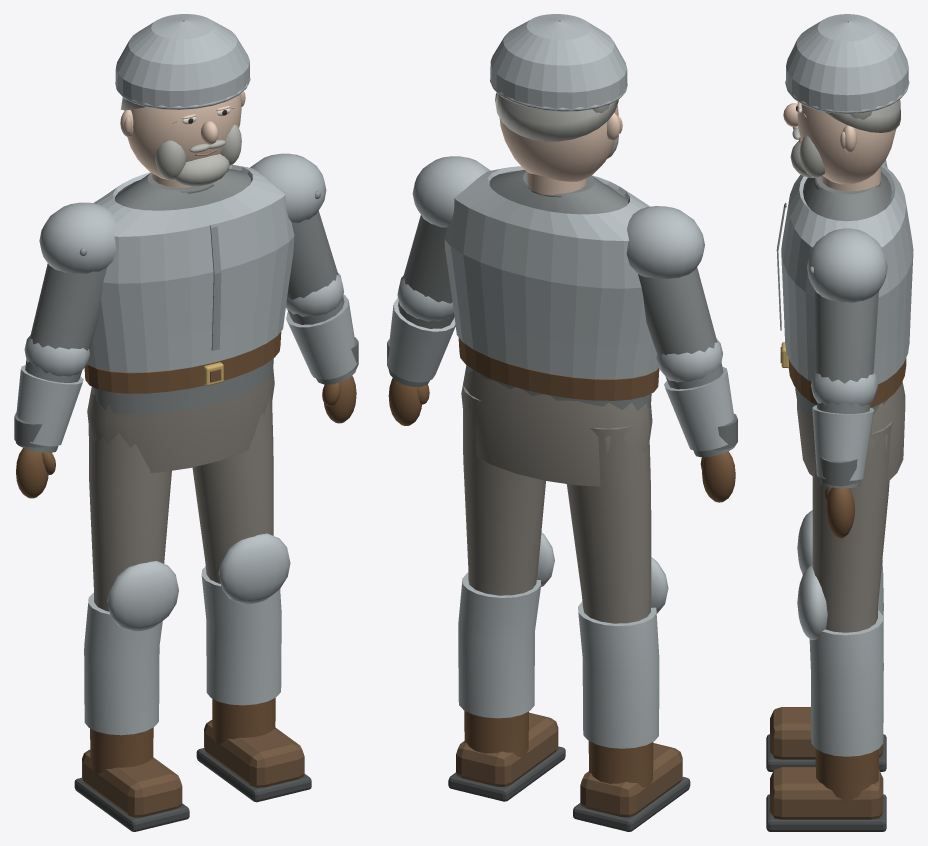
Rendered from soldier_medieval_3.glb.
3 renders of one model, left to right at view 1: azimuth 30°, elevation 25°; view 2: azimuth 150°, elevation 25°; view 3: azimuth 270°, elevation 25°, orthographic.
Visible parts, largest first — view 1: Medieval_Soldier_3_Medieval_Breastplate, Medieval_Soldier_3_Open_Face_Helmet, Medieval_Soldier_3_Trouser_Leg, Medieval_Soldier_3_Connected_Hip_Garment, Medieval_Soldier_3_Metal_Shin_Guard, Medieval_Soldier_3_Metal_Shin_Guard.001, Medieval_Soldier_3_Trouser_Leg.001, Medieval_Soldier_3_Torso_And_Main_Clothes, Medieval_Soldier_3_Long_Sleeve, Medieval_Soldier_3_Rounded_Shoulder_Armor, Medieval_Soldier_3_Head, Medieval_Soldier_3_Shoe_Upper (+19 smaller); view 2: Medieval_Soldier_3_Medieval_Breastplate, Medieval_Soldier_3_Trouser_Leg, Medieval_Soldier_3_Connected_Hip_Garment, Medieval_Soldier_3_Open_Face_Helmet, Medieval_Soldier_3_Trouser_Leg.001, Medieval_Soldier_3_Metal_Shin_Guard, Medieval_Soldier_3_Metal_Shin_Guard.001, Medieval_Soldier_3_Long_Sleeve, Medieval_Soldier_3_Rounded_Shoulder_Armor, Medieval_Soldier_3_Waist_Belt, Medieval_Soldier_3_Torso_And_Main_Clothes, Medieval_Soldier_3_Head (+18 smaller); view 3: Medieval_Soldier_3_Medieval_Breastplate, Medieval_Soldier_3_Trouser_Leg.001, Medieval_Soldier_3_Open_Face_Helmet, Medieval_Soldier_3_Metal_Shin_Guard.001, Medieval_Soldier_3_Long_Sleeve.001, Medieval_Soldier_3_Rounded_Shoulder_Armor.001, Medieval_Soldier_3_Shoe_Upper.001, Medieval_Soldier_3_Head, Medieval_Soldier_3_Metal_Forearm_Guard.001, Medieval_Soldier_3_Torso_And_Main_Clothes, Medieval_Soldier_3_Connected_Hip_Garment, Medieval_Soldier_3_High_Boot_Shaft.001 (+16 smaller).
Boxes of the visible parts, x1=… form: Medieval_Soldier_3_Medieval_Breastplate: x1=87, y1=164, x2=294, y2=372; Medieval_Soldier_3_Open_Face_Helmet: x1=115, y1=14, x2=249, y2=108; Medieval_Soldier_3_Trouser_Leg: x1=88, y1=423, x2=171, y2=611; Medieval_Soldier_3_Connected_Hip_Garment: x1=87, y1=366, x2=274, y2=472; Medieval_Soldier_3_Metal_Shin_Guard: x1=84, y1=592, x2=162, y2=735; Medieval_Soldier_3_Metal_Shin_Guard.001: x1=201, y1=566, x2=281, y2=705; Medieval_Soldier_3_Trouser_Leg.001: x1=192, y1=396, x2=273, y2=583; Medieval_Soldier_3_Torso_And_Main_Clothes: x1=92, y1=169, x2=273, y2=414; Medieval_Soldier_3_Long_Sleeve: x1=16, y1=263, x2=106, y2=452; Medieval_Soldier_3_Rounded_Shoulder_Armor: x1=39, y1=202, x2=116, y2=273; Medieval_Soldier_3_Head: x1=124, y1=94, x2=241, y2=180; Medieval_Soldier_3_Shoe_Upper: x1=82, y1=749, x2=182, y2=817; Medieval_Soldier_3_Medieval_Breastplate: x1=444, y1=166, x2=658, y2=379; Medieval_Soldier_3_Trouser_Leg: x1=566, y1=426, x2=651, y2=623; Medieval_Soldier_3_Connected_Hip_Garment: x1=461, y1=365, x2=652, y2=486; Medieval_Soldier_3_Open_Face_Helmet: x1=490, y1=14, x2=627, y2=110; Medieval_Soldier_3_Trouser_Leg.001: x1=463, y1=385, x2=545, y2=595; Medieval_Soldier_3_Metal_Shin_Guard: x1=578, y1=602, x2=659, y2=748; Medieval_Soldier_3_Metal_Shin_Guard.001: x1=458, y1=573, x2=541, y2=718; Medieval_Soldier_3_Long_Sleeve: x1=638, y1=267, x2=734, y2=457; Medieval_Soldier_3_Rounded_Shoulder_Armor: x1=626, y1=206, x2=704, y2=278; Medieval_Soldier_3_Waist_Belt: x1=458, y1=337, x2=659, y2=400; Medieval_Soldier_3_Torso_And_Main_Clothes: x1=467, y1=170, x2=651, y2=410; Medieval_Soldier_3_Head: x1=499, y1=105, x2=618, y2=181; Medieval_Soldier_3_Medieval_Breastplate: x1=781, y1=164, x2=913, y2=384; Medieval_Soldier_3_Trouser_Leg.001: x1=812, y1=421, x2=892, y2=632; Medieval_Soldier_3_Open_Face_Helmet: x1=786, y1=14, x2=908, y2=112; Medieval_Soldier_3_Metal_Shin_Guard.001: x1=809, y1=610, x2=883, y2=756; Medieval_Soldier_3_Long_Sleeve.001: x1=814, y1=290, x2=878, y2=488; Medieval_Soldier_3_Rounded_Shoulder_Armor.001: x1=807, y1=228, x2=887, y2=302; Medieval_Soldier_3_Shoe_Upper.001: x1=770, y1=767, x2=883, y2=819; Medieval_Soldier_3_Head: x1=797, y1=102, x2=896, y2=184; Medieval_Soldier_3_Metal_Forearm_Guard.001: x1=812, y1=405, x2=874, y2=480; Medieval_Soldier_3_Torso_And_Main_Clothes: x1=795, y1=171, x2=891, y2=421; Medieval_Soldier_3_Connected_Hip_Garment: x1=797, y1=381, x2=905, y2=481; Medieval_Soldier_3_High_Boot_Shaft.001: x1=815, y1=749, x2=878, y2=802.
Size of the model in its own units: 0.8242 by 1.77 by 0.3075.
